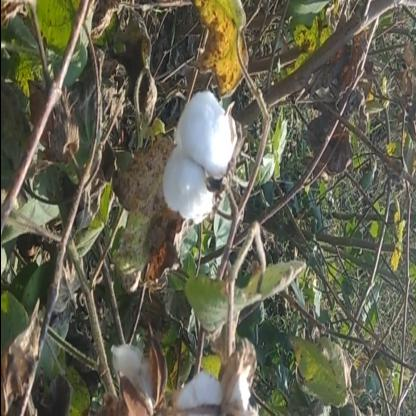cotton_ready: (138, 80, 256, 244)
